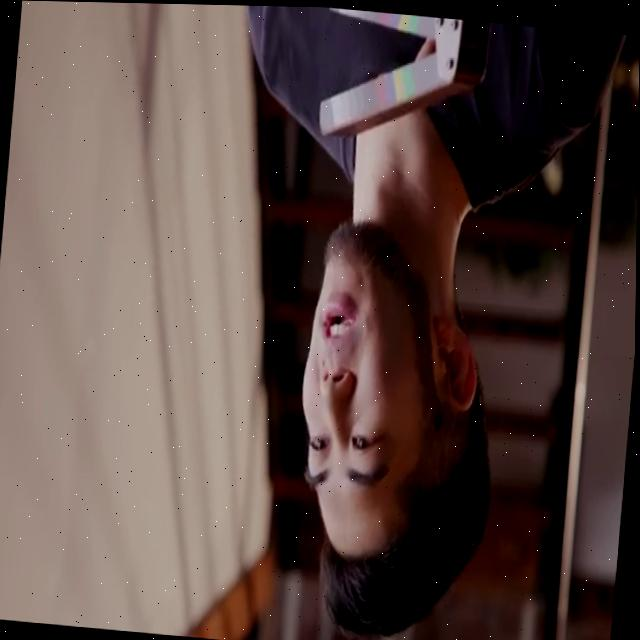Clapperboard: (316, 7, 495, 158)
